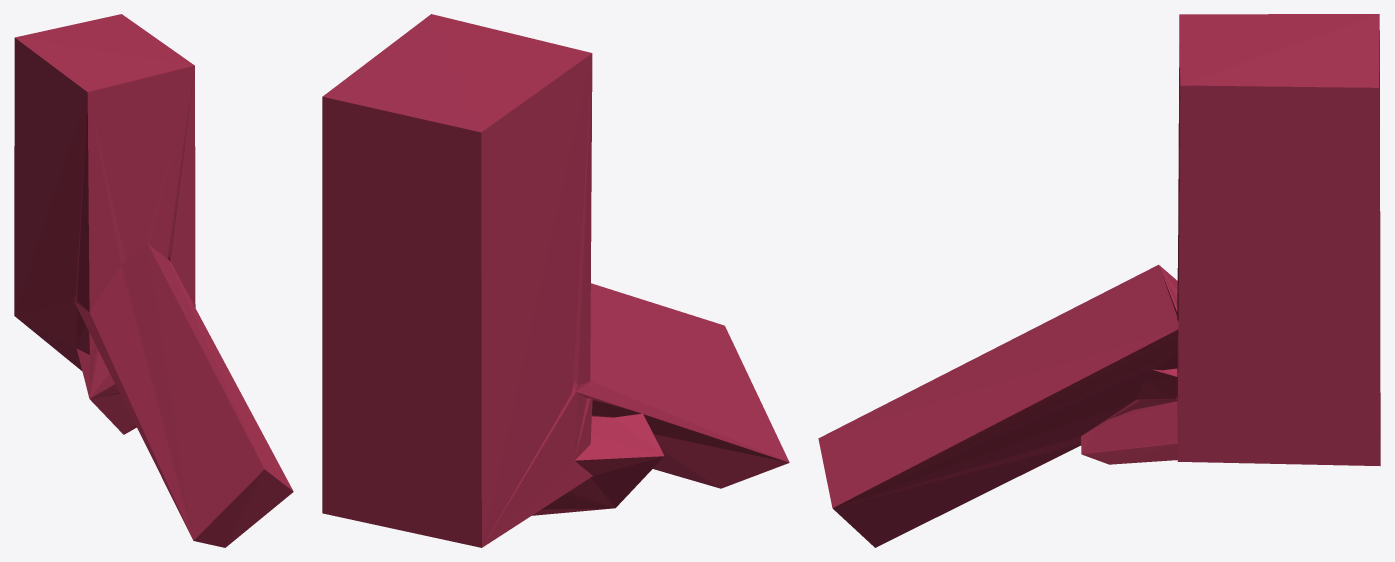
3 renders of one model, left to right at view 1: azimuth 30°, elevation 25°; view 2: azimuth 150°, elevation 25°; view 3: azimuth 270°, elevation 25°, orthographic. The views are drawn at different scales.
Visible parts, largest first — view 1: 318_Cube.1301; view 2: 318_Cube.1301; view 3: 318_Cube.1301.
Boxes of the visible parts, x1,y1,x2,y2 form: 318_Cube.1301: (14, 14, 293, 547); 318_Cube.1301: (322, 14, 789, 547); 318_Cube.1301: (818, 14, 1380, 547).
Size of the model in its own units: 5.87 by 16.31 by 16.06.
